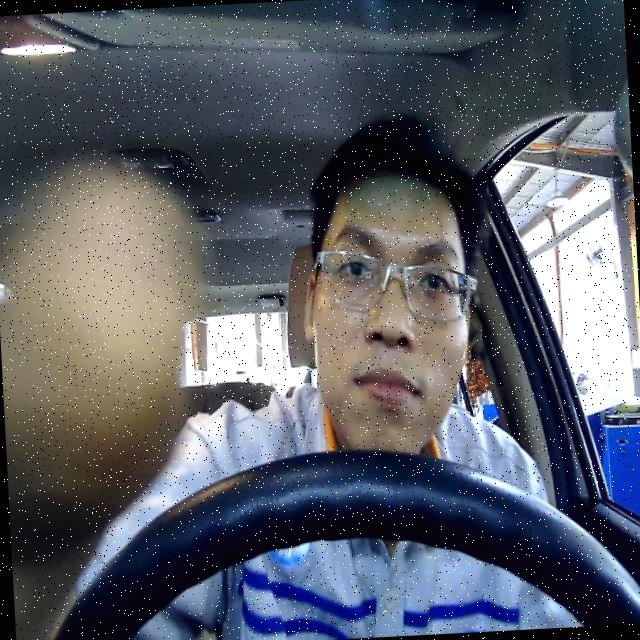focused: (296, 168, 480, 456)
